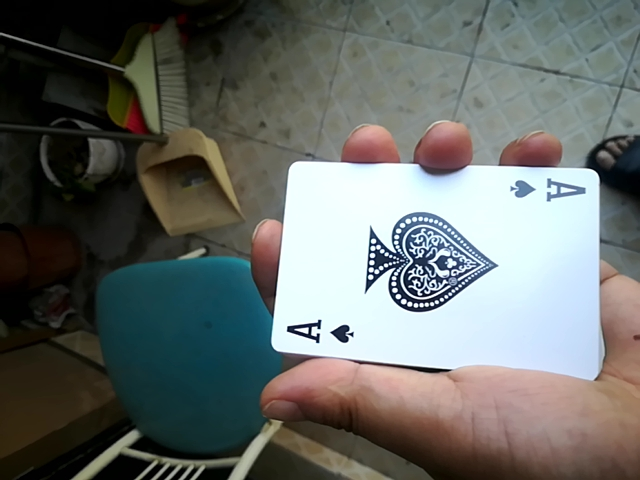ht a: (257, 153, 601, 380)
